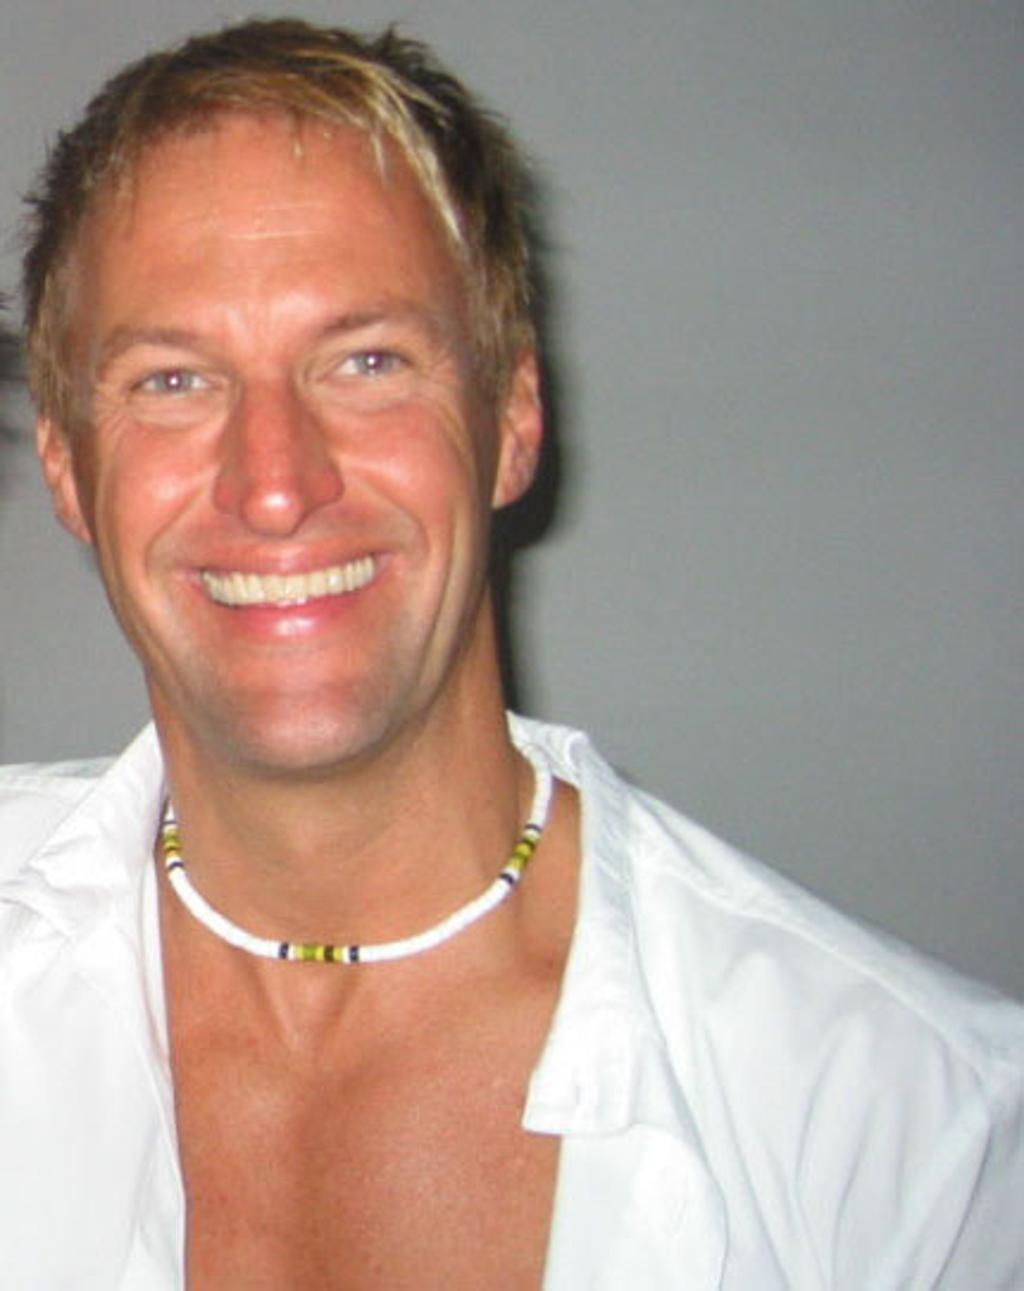face: (93, 169, 484, 772)
